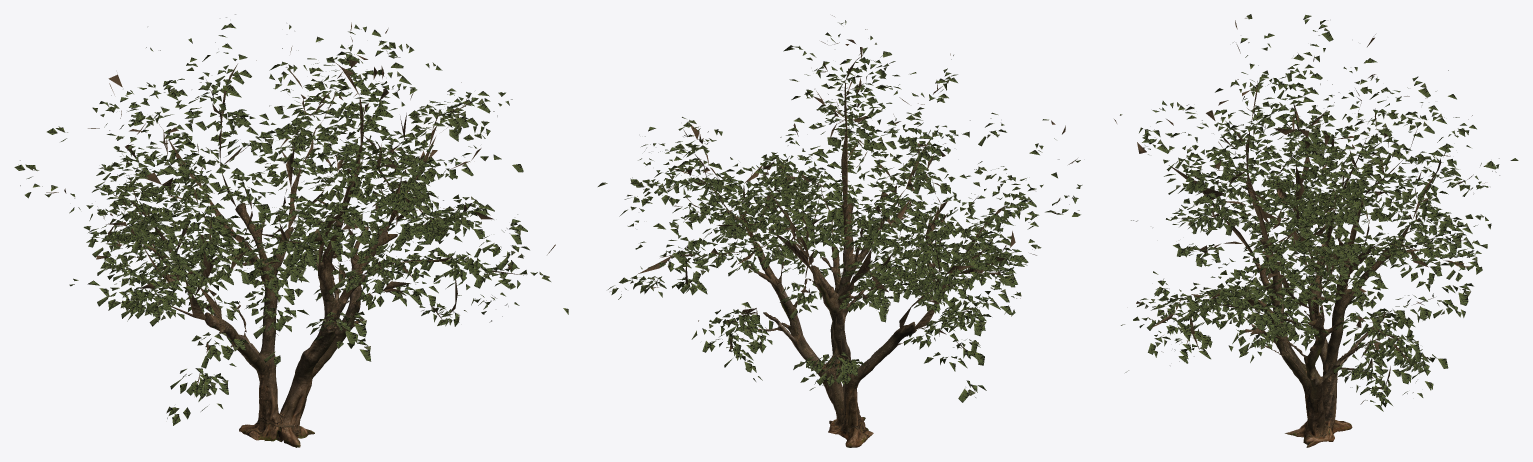
The model's file is palm.glb.
The picture shows the model from 3 angles, left to right: view 1: azimuth 30°, elevation 25°; view 2: azimuth 150°, elevation 25°; view 3: azimuth 270°, elevation 25°; orthographic projection. The views are drawn at different scales.
Parts seen in each view (by area): view 1: jacaranda_tree_LOD0; view 2: jacaranda_tree_LOD0; view 3: jacaranda_tree_LOD0.
Boxes of the visible parts, x1,y1,x2,y2 form: jacaranda_tree_LOD0: [14, 14, 568, 447]; jacaranda_tree_LOD0: [598, 15, 1082, 447]; jacaranda_tree_LOD0: [1114, 14, 1518, 447].
Bounding box in the file's own units: 23.18 × 19.09 × 18.17.
3 materials, 3 textured.
